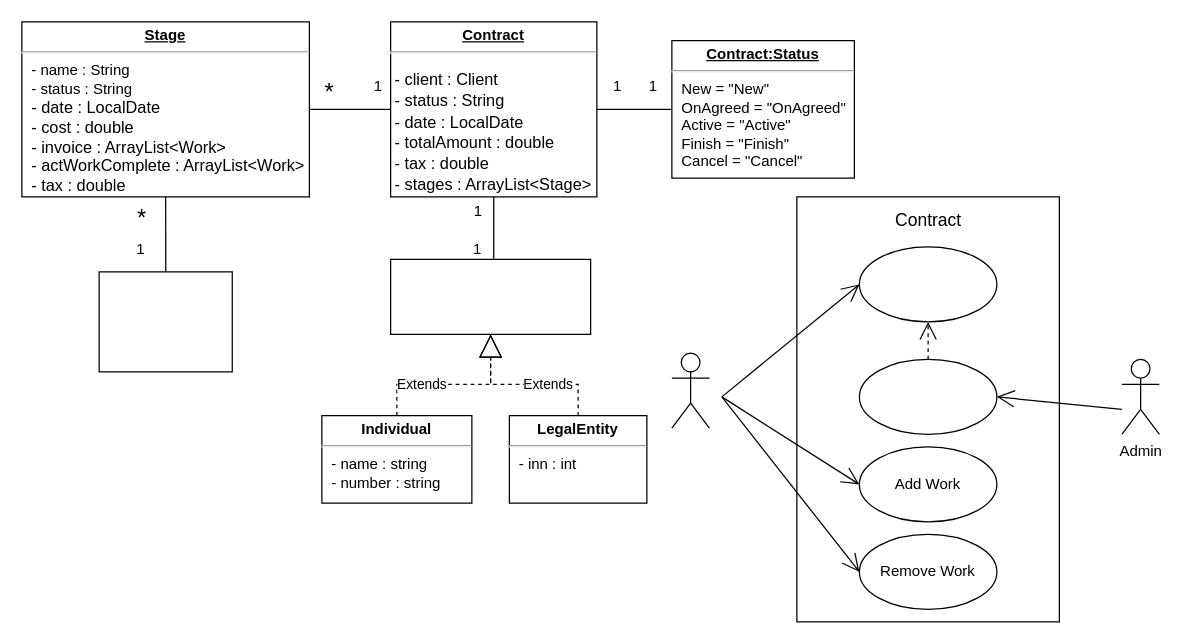
This 1184x644 diagram has some shape labels left out. Each missing label, with the centre of its shape:
"Check Status" goes at pixel 927 284.
"Client" goes at pixel 690 390.
"Client - address : string" goes at pixel 490 296.
"Update Status" goes at pixel 927 396.
"Work - name : String - status : String - cost : double" goes at pixel 165 321.
